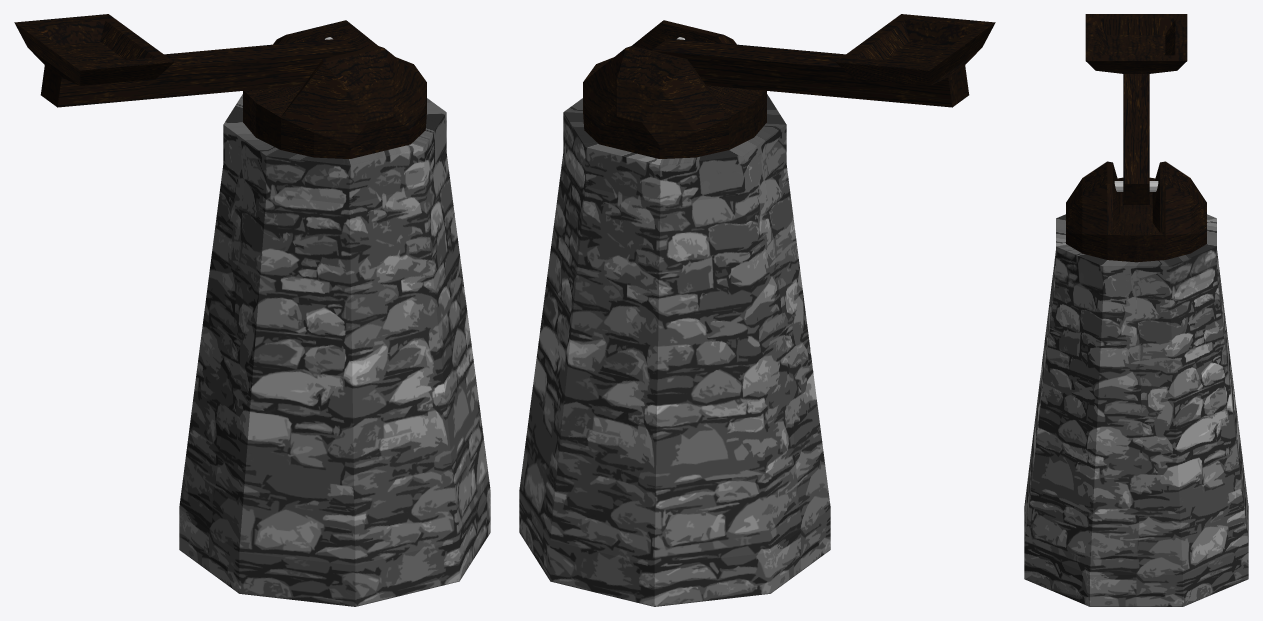
File: catapultlaunch.fbx
3 views of the same model, side by side, from view 1: azimuth 30°, elevation 25°; view 2: azimuth 150°, elevation 25°; view 3: azimuth 270°, elevation 25° (orthographic). The views are drawn at different scales.
Parts seen in each view (by area): view 1: turret_foundation, shaft, pSphere1; view 2: turret_foundation, shaft, pSphere1; view 3: turret_foundation, pSphere1, shaft.
Part boxes in pixels (<box>): turret_foundation: <box>179,94,490,606</box>; shaft: <box>14,14,357,107</box>; pSphere1: <box>243,20,426,158</box>; turret_foundation: <box>519,94,830,606</box>; shaft: <box>652,14,995,107</box>; pSphere1: <box>583,20,766,158</box>; turret_foundation: <box>1024,214,1248,606</box>; pSphere1: <box>1066,161,1206,262</box>; shaft: <box>1085,14,1187,204</box>.
Size of the model in its own units: 20.53 by 26.8 by 12.49.
Materials: 4 (3 with a texture image).
